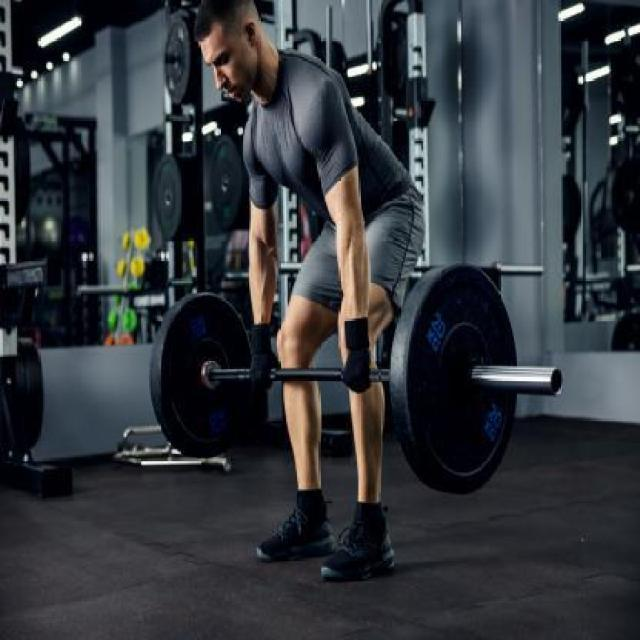barbell: (384, 250, 530, 501)
